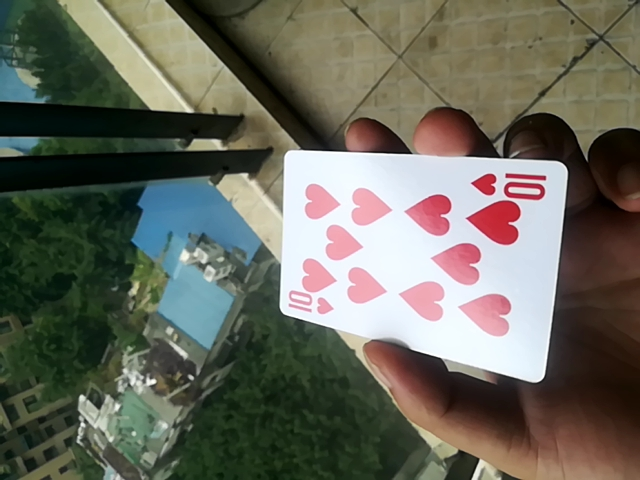hx 10: (274, 145, 569, 382)
